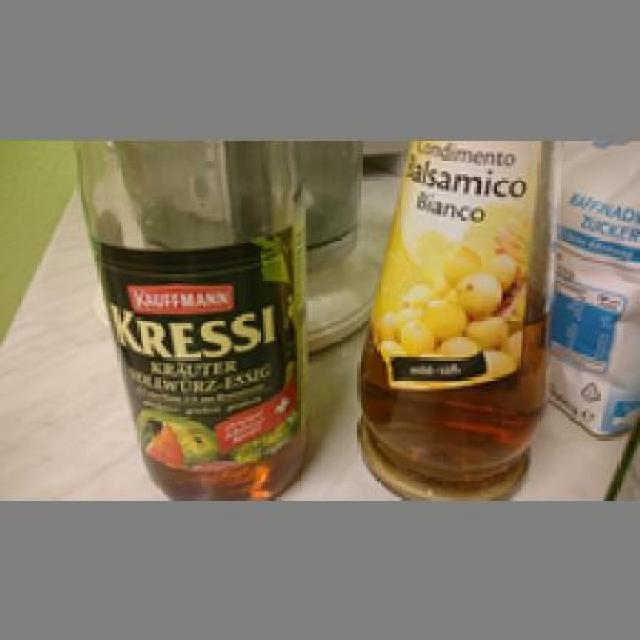Vinegar: (66, 134, 320, 500), (360, 132, 551, 498)
